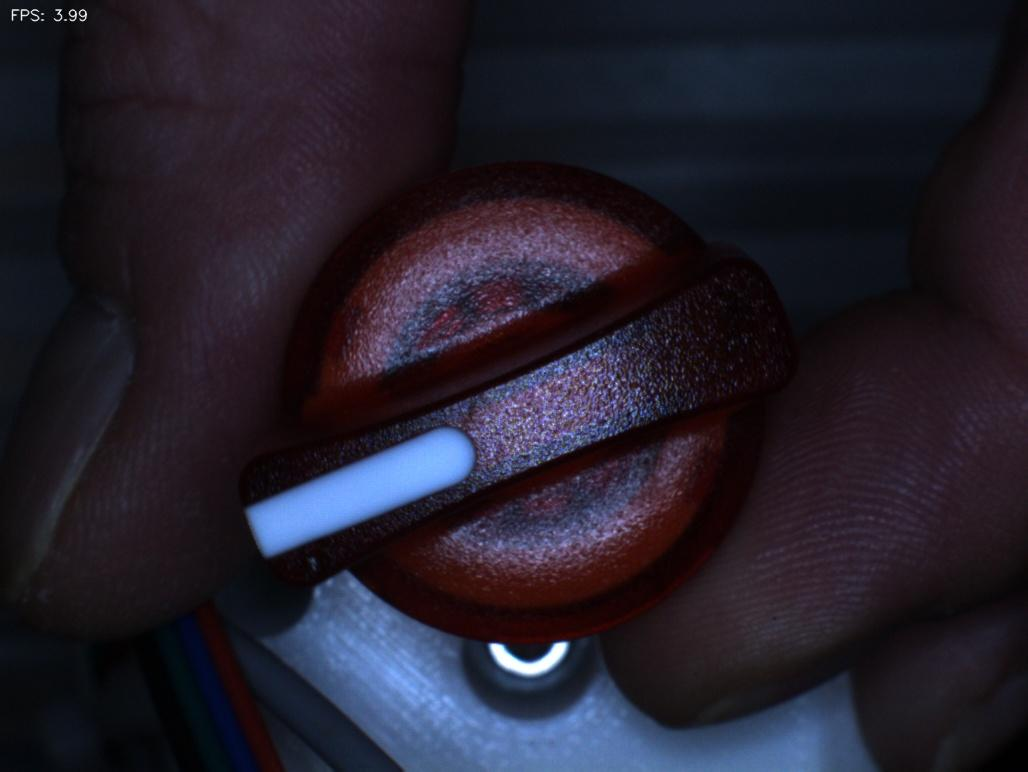Choc: (272, 531, 369, 614)
